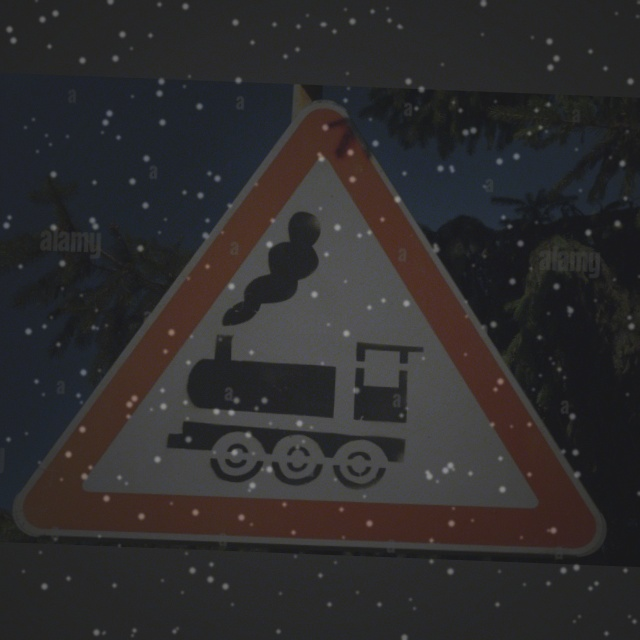Unguarded_Level_Crossing: (63, 118, 556, 545)
